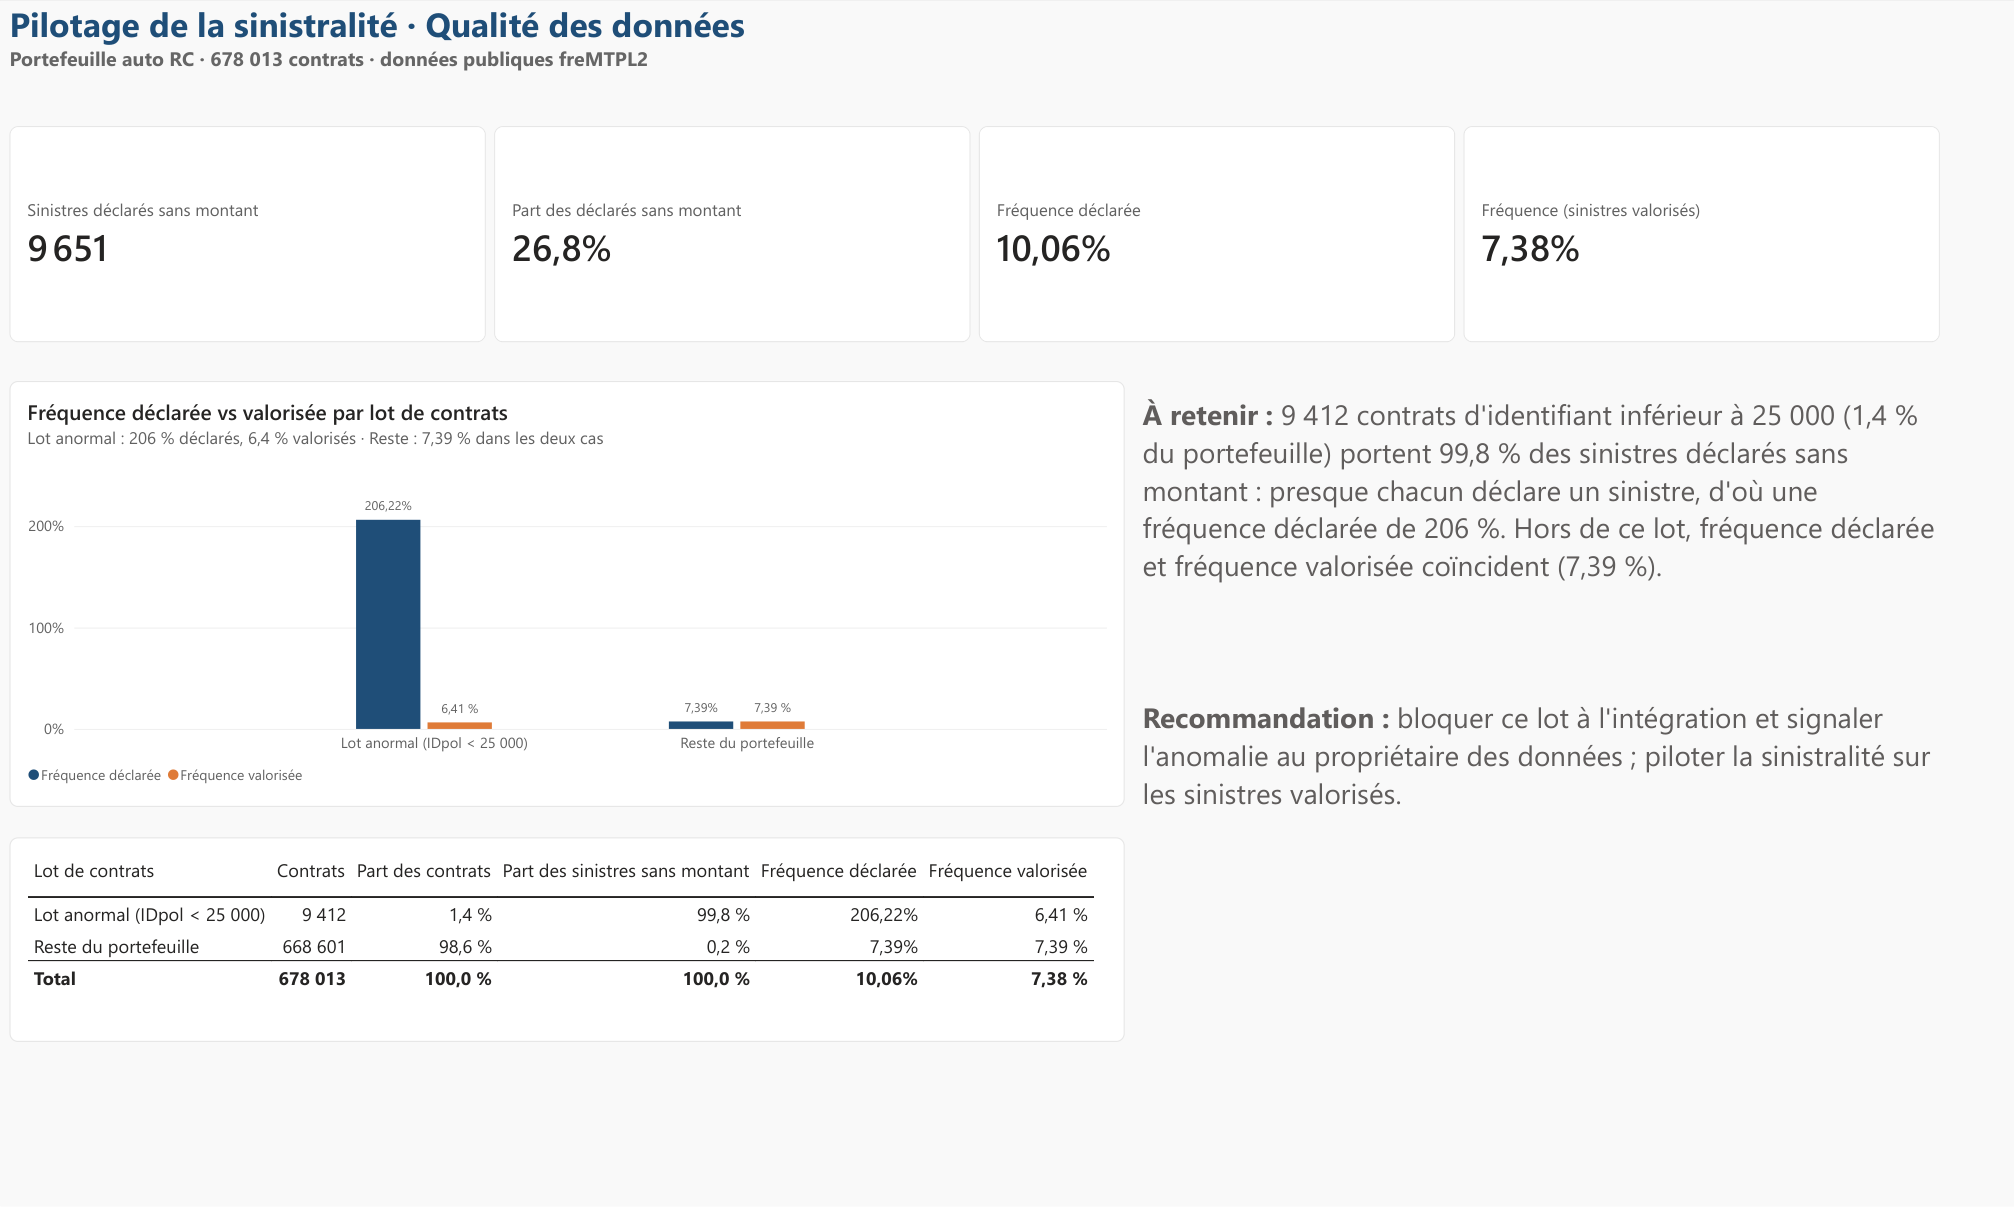

The page's visual inventory and layout, read from the dashboard file:
{"tool":"powerbi","page":{"name":"Qualité des données","canvas":[1920,1150],"ordinal":4},"visuals":[{"type":"textbox","box":[9.3,0,1911.1,120.4],"z":0},{"type":"cardVisual","fields":{"Data":["_Mesures.Carte sinistres sans montant","_Mesures.Part sinistres sans montant","_Mesures.Fréquence déclarée","_Mesures.Fréquence"]},"box":[9.3,120.4,1840,206],"z":1},{"type":"clusteredColumnChart","title":"Fréquence déclarée vs valorisée par lot de contrats","fields":{"Category":["fact_policy.data_block"],"Y":["_Mesures.Fréquence déclarée","_Mesures.Fréquence valorisée (contrats)"]},"box":[9.3,363,1063,405.6],"z":2},{"type":"tableEx","fields":{"Values":["fact_policy.data_block","_Mesures.Contrats","_Mesures.Part des contrats","_Mesures.Part des sinistres sans montant (répartition)","_Mesures.Fréquence déclarée","_Mesures.Fréquence valorisée (contrats)"]},"box":[9.3,798.1,1063,194.4],"z":3},{"type":"textbox","box":[1088.9,375.9,759.3,277.8],"z":4},{"type":"textbox","box":[1088.9,664.8,759.3,163],"z":5}]}

Visuals, with their boxes in screenshot pixels (x1, y1, x2, y2), scaled from the page's 1920x1150 canvas onto the 2014x1207 screenshot:
textbox: (10,0,2013,126)
cardVisual - _Mesures.Carte sinistres sans montant x _Mesures.Part sinistres sans montant: (10,126,1940,343)
"Fréquence déclarée vs valorisée par lot de contrats" clusteredColumnChart: (10,381,1125,807)
tableEx - fact_policy.data_block x _Mesures.Contrats: (10,838,1125,1042)
textbox: (1142,395,1939,686)
textbox: (1142,698,1939,869)
